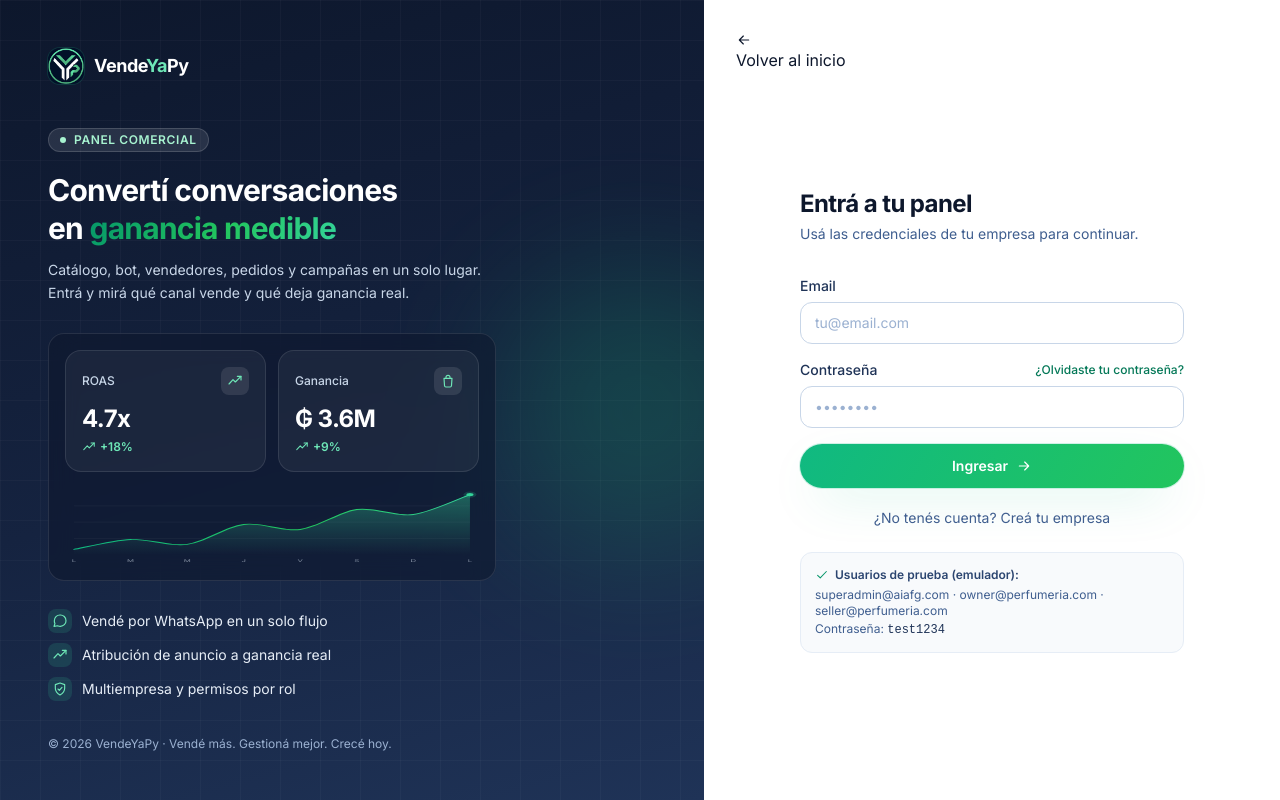
Test: LoginPage — recuperación de contraseña › too-many-requests → error amigable específico
Click the button "¿Olvidaste tu contraseña?".
click(1110, 370)  # box [1035,362,1184,378]
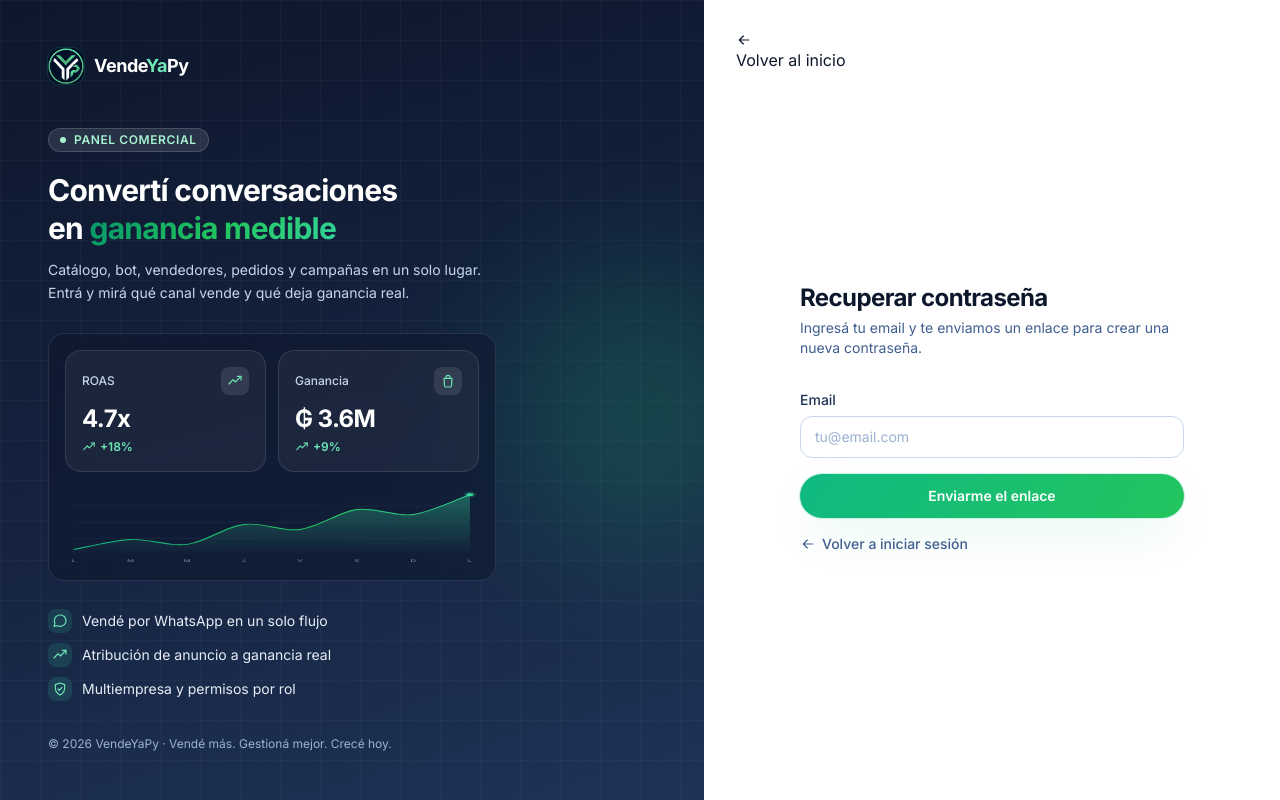
Type "user@test.com" into the field labelled "Email".
click(992, 437); type("user@test.com")  # box [800,416,1184,458]
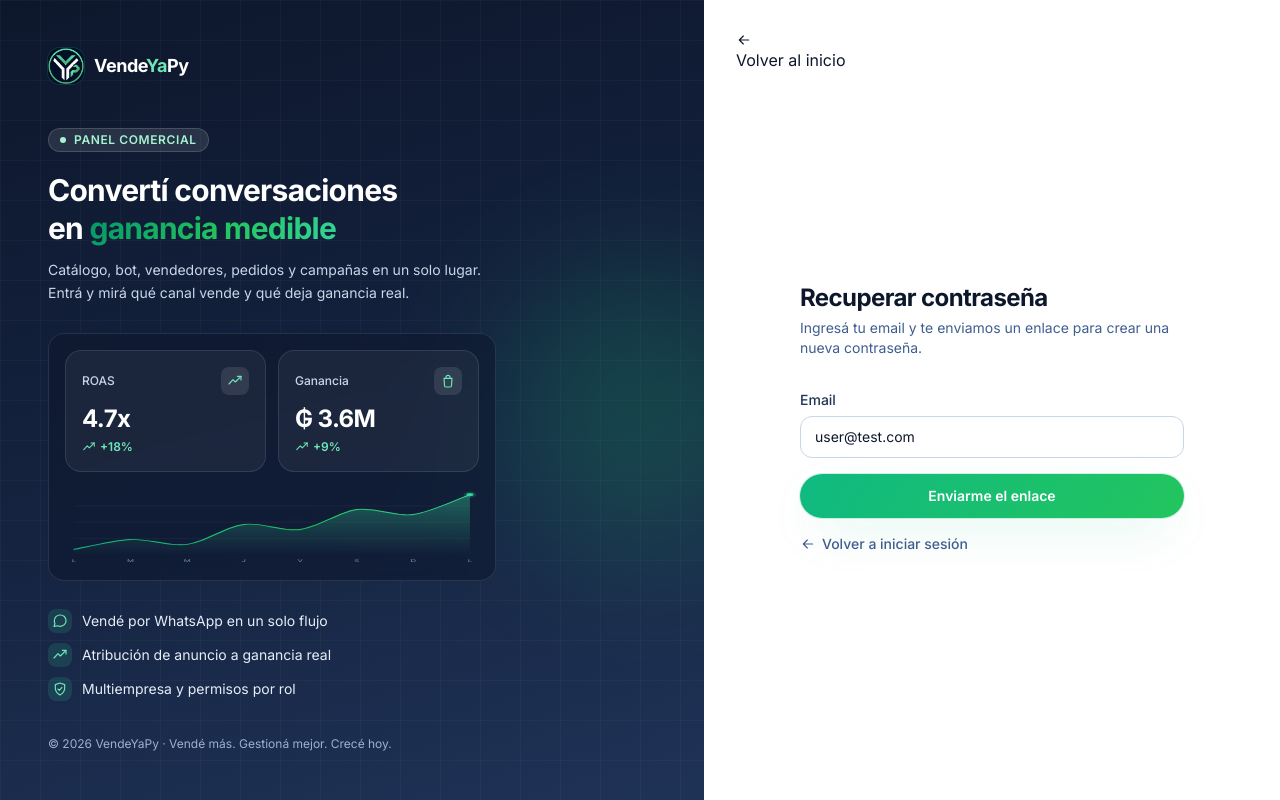
Submit the form labelled "Email Enviarme el enlace Volver a iniciar sesión", box [800,390,1184,558]
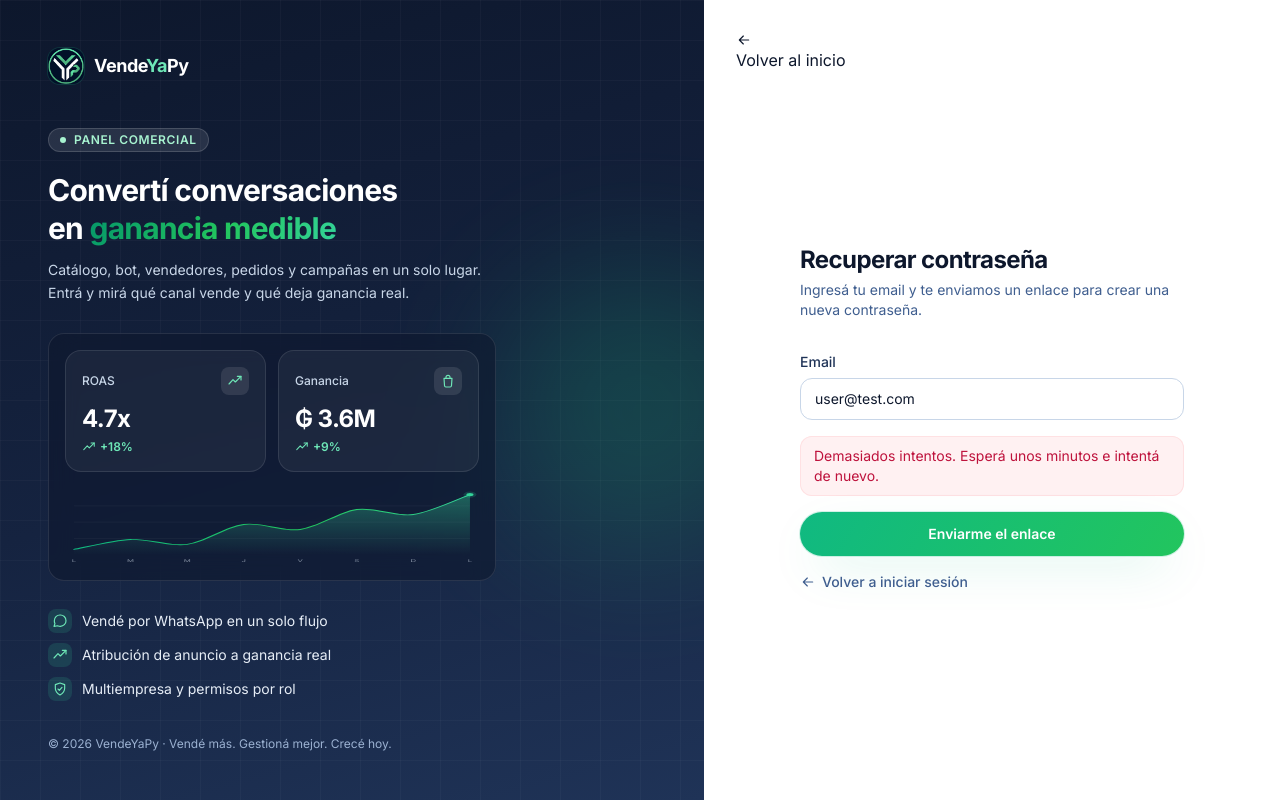
Expected: the text "Demasiados intentos. Esperá unos minutos e intentá de nuevo." is shown, [800,436,1184,496]
